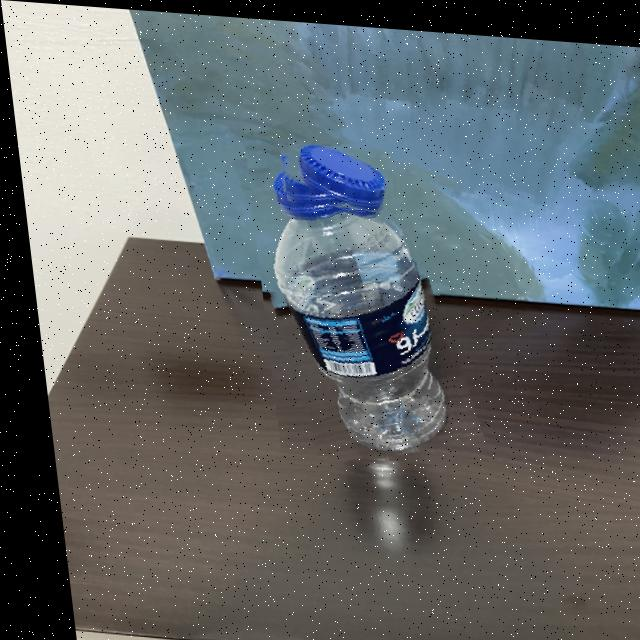plasticbottle: (240, 130, 462, 461)
plasticbottlecap: (275, 138, 391, 209)
